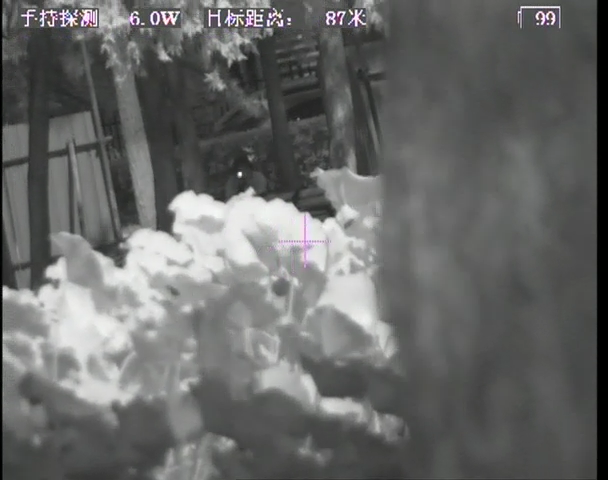my: (236, 169, 245, 180)
